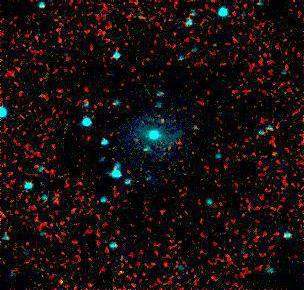star: (145, 107, 175, 137)
